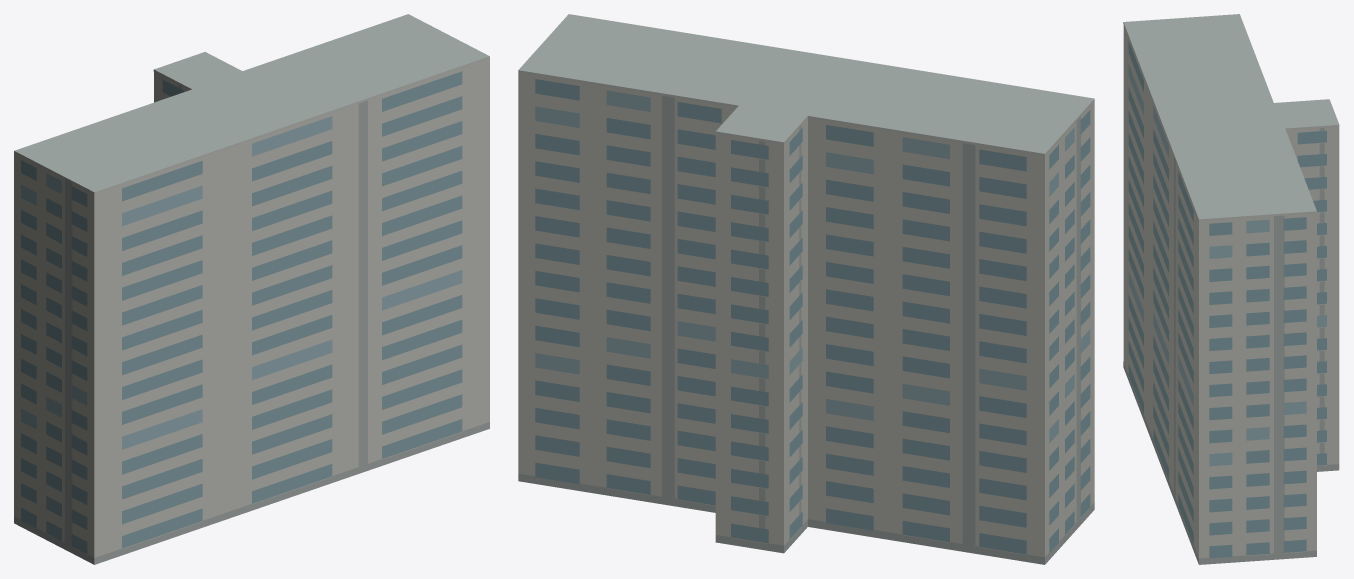
File: residential-0cb62f30-3388-4870-91ea-0b7ac7da6e0e.glb
3 views of the same model, side by side, from view 1: azimuth 30°, elevation 25°; view 2: azimuth 150°, elevation 25°; view 3: azimuth 270°, elevation 25° (orthographic). The views are drawn at different scales.
Parts seen in each view (by area): view 1: residential-0cb62f30-3388-4870-91ea-0b7ac7da6e0e.tmp; view 2: residential-0cb62f30-3388-4870-91ea-0b7ac7da6e0e.tmp; view 3: residential-0cb62f30-3388-4870-91ea-0b7ac7da6e0e.tmp.
Part boxes in pixels (left/top/right/bottom): residential-0cb62f30-3388-4870-91ea-0b7ac7da6e0e.tmp: left=14, top=14, right=489, bottom=564; residential-0cb62f30-3388-4870-91ea-0b7ac7da6e0e.tmp: left=518, top=14, right=1094, bottom=564; residential-0cb62f30-3388-4870-91ea-0b7ac7da6e0e.tmp: left=1123, top=14, right=1339, bottom=564.
Bounding box in the file's own units: 50.98 × 40 × 22.67.
